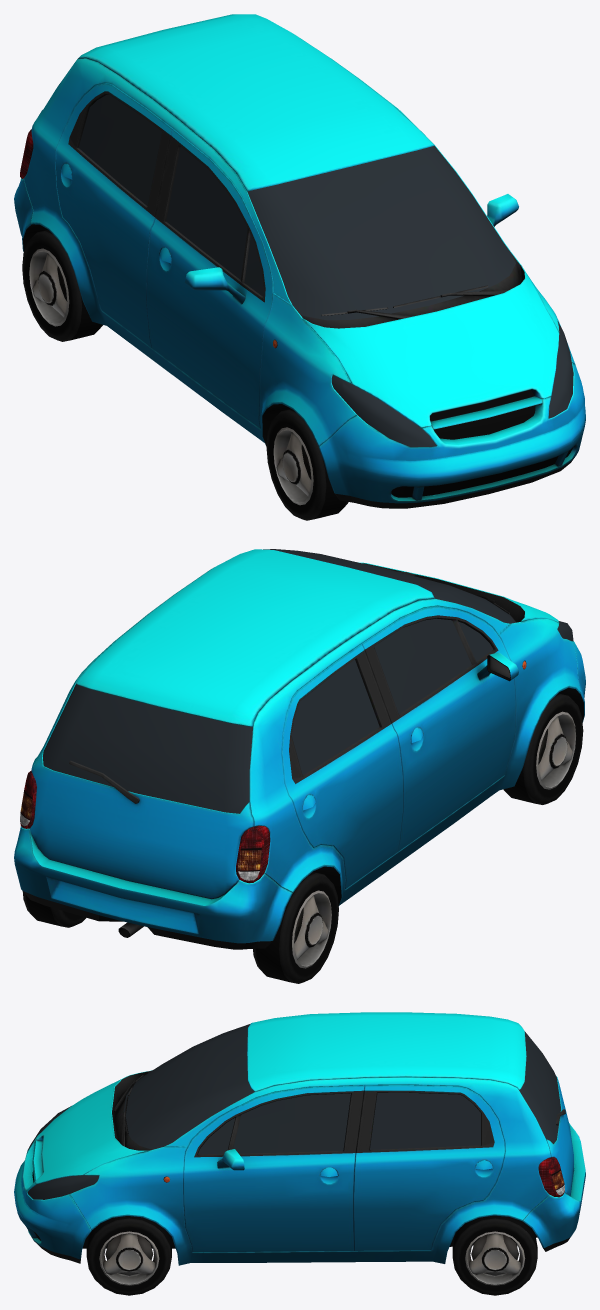
The model's file is car_compact.gltf.
3 views of the same model, one above another, from view 1: azimuth 30°, elevation 25°; view 2: azimuth 150°, elevation 25°; view 3: azimuth 270°, elevation 25° (orthographic). The views are drawn at different scales.
Parts seen in each view (by area): view 1: car_compact; view 2: car_compact; view 3: car_compact.
Boxes of the visible parts, x1,y1,x2,y2 form: car_compact: [14, 14, 585, 520]; car_compact: [14, 549, 585, 983]; car_compact: [14, 1012, 585, 1295].
Bounding box in the file's own units: 1.92 × 1.57 × 3.9.
1 material, 1 textured.
